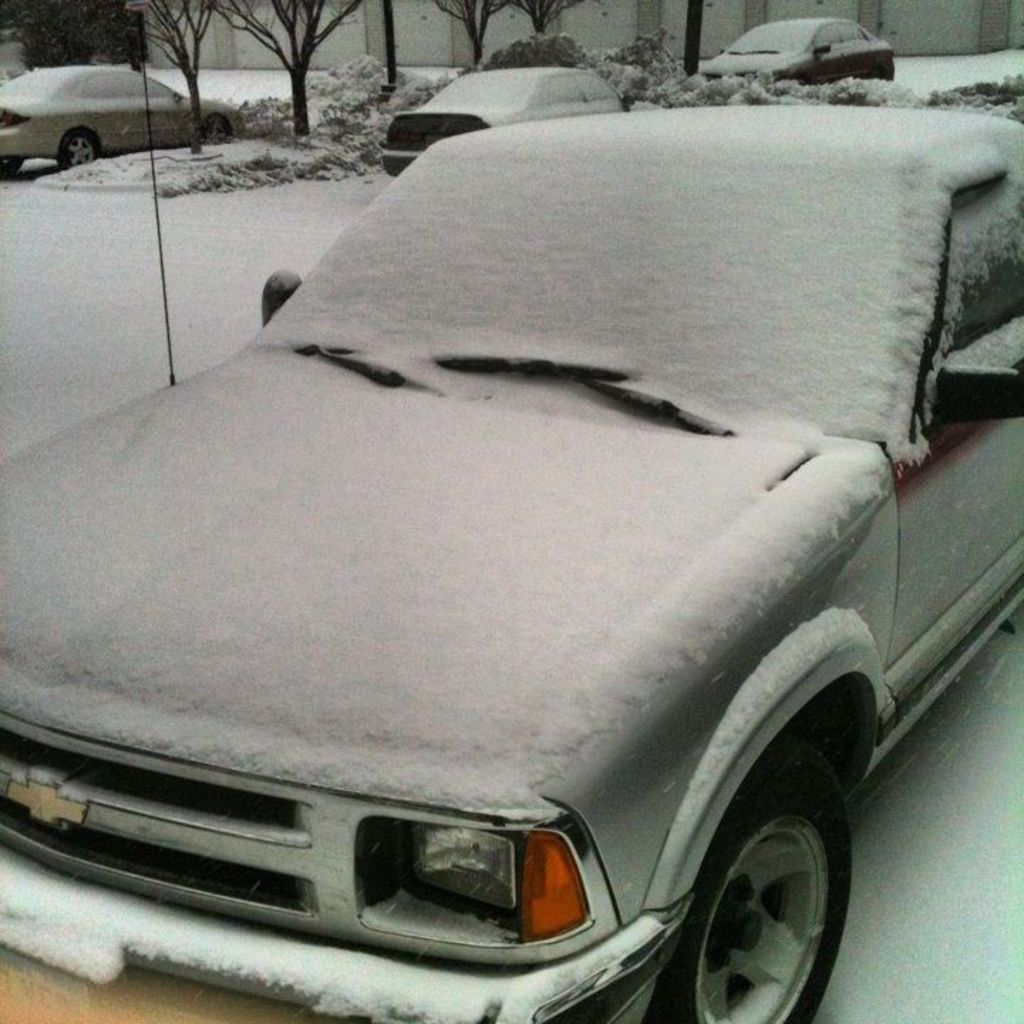Car: (0, 76, 1001, 1009)
